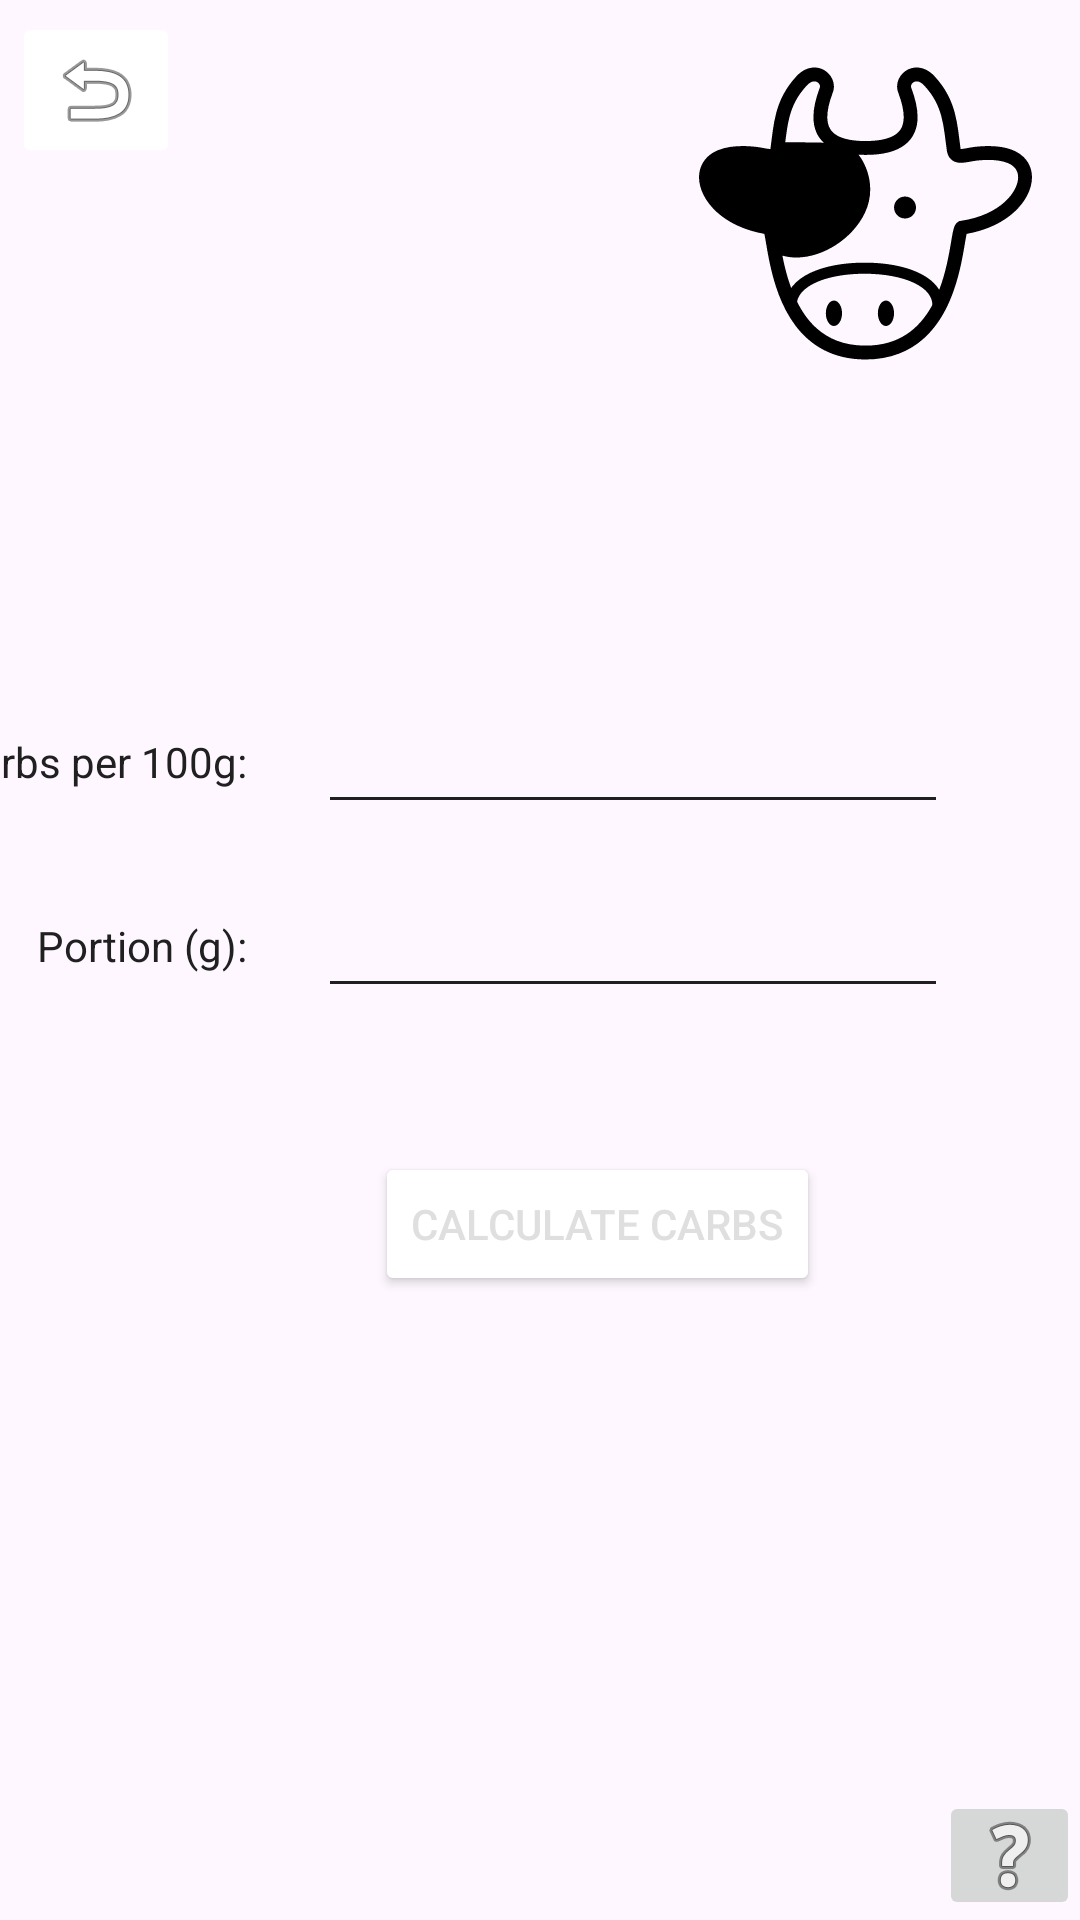

Icon bounding boxes for this 1080x1920 phone screenshot, format (x1, y1, x2, y2):
cow: (699, 67, 1032, 360)
help: (951, 1809, 1068, 1902)
revert: (63, 59, 132, 122)
